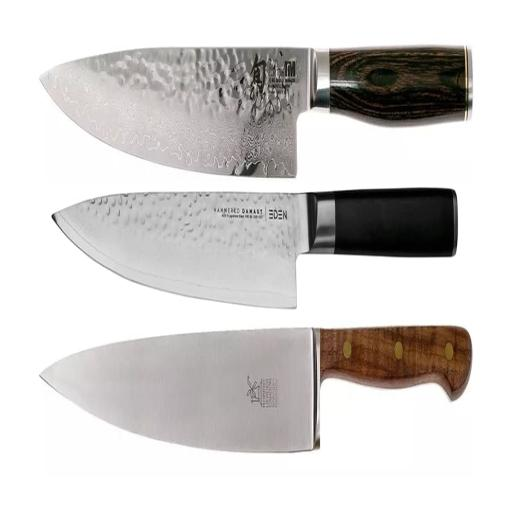knife: (34, 329, 481, 462)
